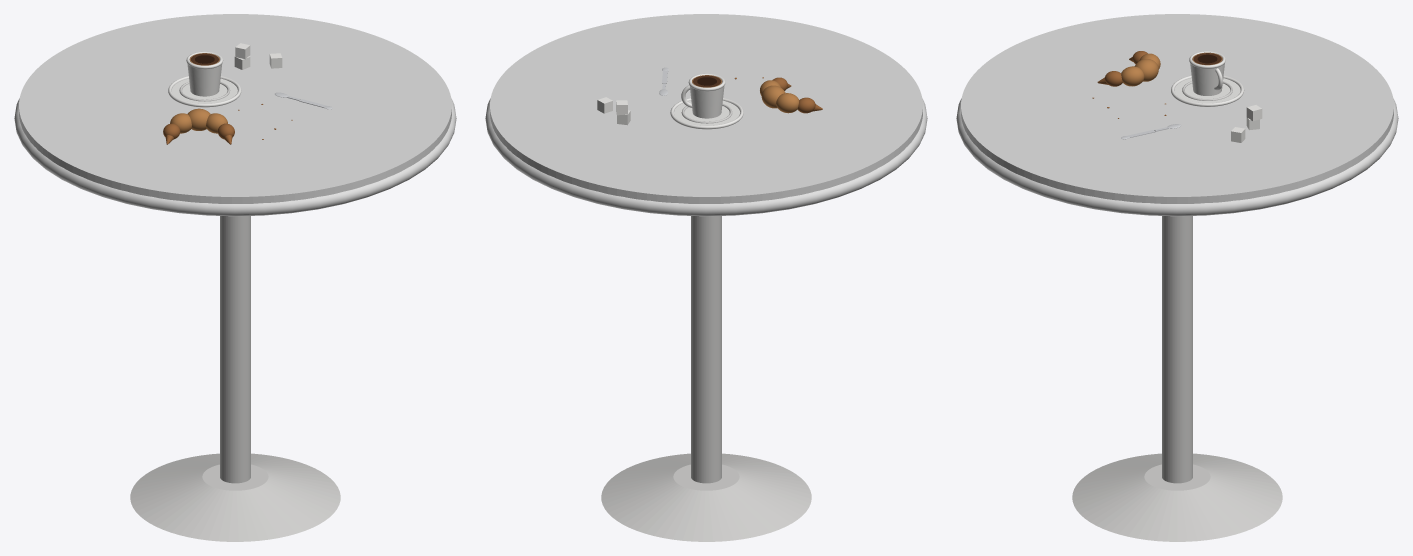
3 renders of one model, left to right at view 1: azimuth 30°, elevation 25°; view 2: azimuth 150°, elevation 25°; view 3: azimuth 270°, elevation 25°, orthographic.
Parts seen in each view (by area): view 1: TableTop, TableFoot, Pedestal, TableEdge, CupBody, SaucerTop, SaucerRim; view 2: TableTop, TableFoot, Pedestal, TableEdge, CupBody, SaucerTop; view 3: TableTop, TableFoot, Pedestal, TableEdge, CupBody, SaucerTop.
Boxes of the visible parts, <box> form: TableTop: <box>19,14,451,203</box>; TableFoot: <box>130,453,340,541</box>; Pedestal: <box>220,216,250,483</box>; TableEdge: <box>14,98,456,216</box>; CupBody: <box>187,64,221,96</box>; SaucerTop: <box>171,78,237,103</box>; SaucerRim: <box>168,76,241,107</box>; TableTop: <box>490,14,922,203</box>; TableFoot: <box>601,453,811,541</box>; Pedestal: <box>691,216,721,483</box>; TableEdge: <box>485,98,927,216</box>; CupBody: <box>690,86,724,118</box>; SaucerTop: <box>674,100,739,125</box>; TableTop: <box>961,14,1393,203</box>; TableFoot: <box>1072,453,1282,541</box>; Pedestal: <box>1162,216,1192,483</box>; TableEdge: <box>956,98,1398,216</box>; CupBody: <box>1190,63,1224,95</box>; SaucerTop: <box>1174,78,1240,103</box>.
Size of what is drawn, in the model's own units: 0.735 by 0.7914 by 0.735.
